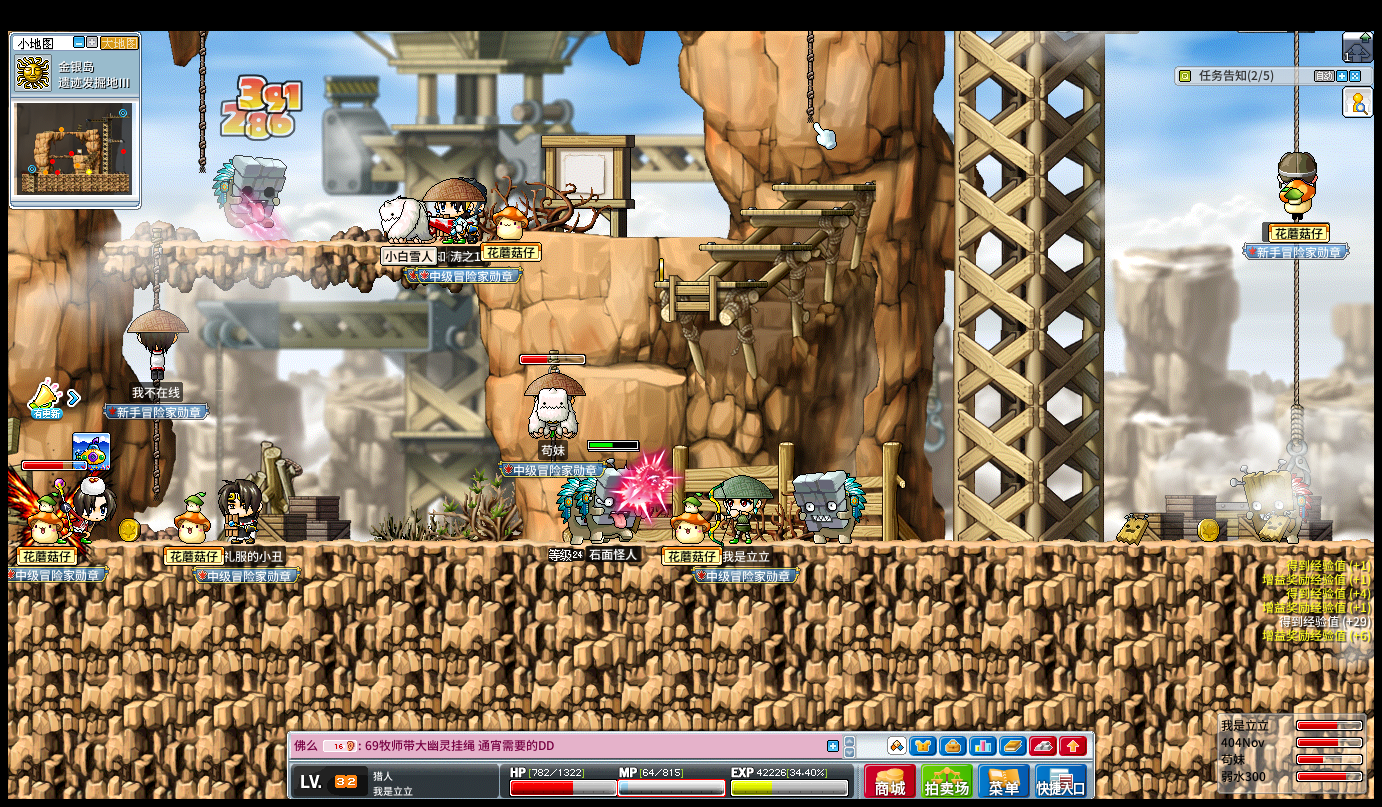floor: (105, 238, 477, 249), (580, 364, 688, 385), (587, 232, 736, 241), (738, 205, 853, 216), (651, 278, 766, 287), (696, 243, 810, 251), (736, 207, 849, 215), (771, 183, 875, 191)
monster: (1231, 460, 1313, 541), (211, 154, 287, 237), (792, 469, 865, 544), (558, 466, 628, 540)
rope: (1291, 257, 1302, 409), (197, 29, 205, 174), (150, 229, 162, 309), (804, 29, 814, 123), (153, 419, 164, 502), (1292, 29, 1299, 148), (152, 419, 160, 500), (1289, 407, 1304, 444)
